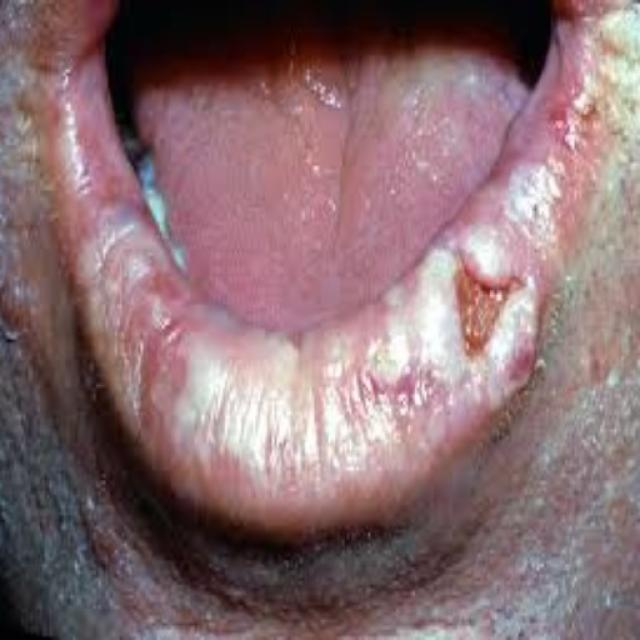cancer-detection: (43, 3, 639, 518)
processing_area: (46, 0, 636, 541)
